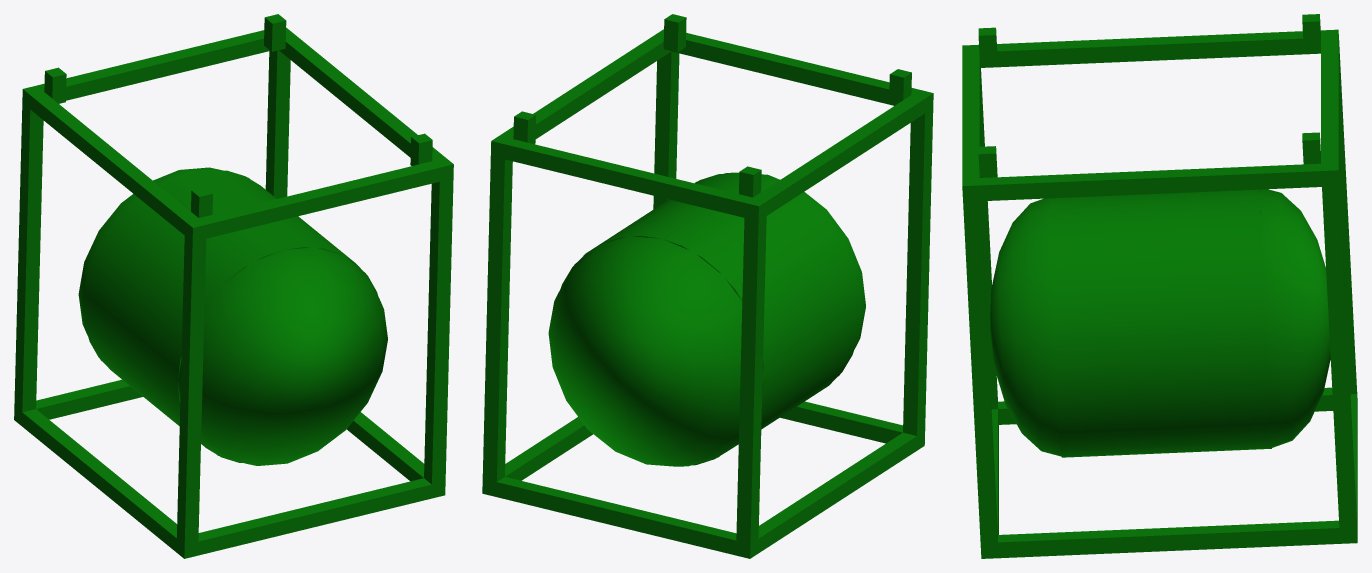
File: Image-1710907768575-2281130680352_42-VS52.fbx
3 renders of one model, left to right at view 1: azimuth 30°, elevation 25°; view 2: azimuth 150°, elevation 25°; view 3: azimuth 270°, elevation 25°, orthographic. The views are drawn at different scales.
Parts seen in each view (by area): view 1: DISH 2 of SUBEQUIPMENT /42-VS52/DRUM, CYLINDER 1 of SUBEQUIPMENT /42-VS52/DRUM, BOX 12 of SUBEQUIPMENT /42-VS52/FRAME, BOX 9 of SUBEQUIPMENT /42-VS52/FRAME, BOX 11 of SUBEQUIPMENT /42-VS52/FRAME, BOX 6 of SUBEQUIPMENT /42-VS52/FRAME, BOX 5 of SUBEQUIPMENT /42-VS52/FRAME, BOX 4 of SUBEQUIPMENT /42-VS52/FRAME, BOX 3 of SUBEQUIPMENT /42-VS52/FRAME, BOX 8 of SUBEQUIPMENT /42-VS52/FRAME, BOX 2 of SUBEQUIPMENT /42-VS52/FRAME, BOX 10 of SUBEQUIPMENT /42-VS52/FRAME (+7 smaller); view 2: DISH 1 of SUBEQUIPMENT /42-VS52/DRUM, CYLINDER 1 of SUBEQUIPMENT /42-VS52/DRUM, BOX 11 of SUBEQUIPMENT /42-VS52/FRAME, BOX 10 of SUBEQUIPMENT /42-VS52/FRAME, BOX 12 of SUBEQUIPMENT /42-VS52/FRAME, BOX 8 of SUBEQUIPMENT /42-VS52/FRAME, BOX 7 of SUBEQUIPMENT /42-VS52/FRAME, BOX 4 of SUBEQUIPMENT /42-VS52/FRAME, BOX 3 of SUBEQUIPMENT /42-VS52/FRAME, BOX 6 of SUBEQUIPMENT /42-VS52/FRAME, BOX 2 of SUBEQUIPMENT /42-VS52/FRAME, BOX 9 of SUBEQUIPMENT /42-VS52/FRAME (+7 smaller); view 3: CYLINDER 1 of SUBEQUIPMENT /42-VS52/DRUM, DISH 1 of SUBEQUIPMENT /42-VS52/DRUM, DISH 2 of SUBEQUIPMENT /42-VS52/DRUM, BOX 2 of SUBEQUIPMENT /42-VS52/FRAME, BOX 1 of SUBEQUIPMENT /42-VS52/FRAME, BOX 4 of SUBEQUIPMENT /42-VS52/FRAME, BOX 10 of SUBEQUIPMENT /42-VS52/FRAME, BOX 9 of SUBEQUIPMENT /42-VS52/FRAME, BOX 8 of SUBEQUIPMENT /42-VS52/FRAME, BOX 6 of SUBEQUIPMENT /42-VS52/FRAME, BOX 11 of SUBEQUIPMENT /42-VS52/FRAME, BOX 12 of SUBEQUIPMENT /42-VS52/FRAME (+7 smaller).
Part boxes in pixels (<box>): DISH 2 of SUBEQUIPMENT /42-VS52/DRUM: <box>178,247,387,465</box>; CYLINDER 1 of SUBEQUIPMENT /42-VS52/DRUM: <box>83,169,378,462</box>; BOX 12 of SUBEQUIPMENT /42-VS52/FRAME: <box>176,236,206,544</box>; BOX 9 of SUBEQUIPMENT /42-VS52/FRAME: <box>424,178,453,484</box>; BOX 11 of SUBEQUIPMENT /42-VS52/FRAME: <box>14,103,43,412</box>; BOX 6 of SUBEQUIPMENT /42-VS52/FRAME: <box>199,161,440,238</box>; BOX 5 of SUBEQUIPMENT /42-VS52/FRAME: <box>198,478,431,555</box>; BOX 4 of SUBEQUIPMENT /42-VS52/FRAME: <box>22,85,206,241</box>; BOX 3 of SUBEQUIPMENT /42-VS52/FRAME: <box>14,406,198,558</box>; BOX 8 of SUBEQUIPMENT /42-VS52/FRAME: <box>37,30,269,100</box>; BOX 2 of SUBEQUIPMENT /42-VS52/FRAME: <box>279,27,453,181</box>; BOX 10 of SUBEQUIPMENT /42-VS52/FRAME: <box>265,50,290,198</box>; DISH 1 of SUBEQUIPMENT /42-VS52/DRUM: <box>548,236,764,466</box>; CYLINDER 1 of SUBEQUIPMENT /42-VS52/DRUM: <box>560,172,861,465</box>; BOX 11 of SUBEQUIPMENT /42-VS52/FRAME: <box>736,216,766,543</box>; BOX 10 of SUBEQUIPMENT /42-VS52/FRAME: <box>482,156,512,481</box>; BOX 12 of SUBEQUIPMENT /42-VS52/FRAME: <box>903,108,933,435</box>; BOX 8 of SUBEQUIPMENT /42-VS52/FRAME: <box>505,139,752,217</box>; BOX 7 of SUBEQUIPMENT /42-VS52/FRAME: <box>496,477,736,555</box>; BOX 4 of SUBEQUIPMENT /42-VS52/FRAME: <box>744,89,933,221</box>; BOX 3 of SUBEQUIPMENT /42-VS52/FRAME: <box>736,431,924,558</box>; BOX 6 of SUBEQUIPMENT /42-VS52/FRAME: <box>672,33,918,105</box>; BOX 2 of SUBEQUIPMENT /42-VS52/FRAME: <box>491,29,671,159</box>; BOX 9 of SUBEQUIPMENT /42-VS52/FRAME: <box>653,51,679,209</box>; CYLINDER 1 of SUBEQUIPMENT /42-VS52/DRUM: <box>1050,189,1271,457</box>; DISH 1 of SUBEQUIPMENT /42-VS52/DRUM: <box>1260,189,1330,447</box>; DISH 2 of SUBEQUIPMENT /42-VS52/DRUM: <box>990,198,1061,456</box>; BOX 2 of SUBEQUIPMENT /42-VS52/FRAME: <box>962,163,1339,201</box>; BOX 1 of SUBEQUIPMENT /42-VS52/FRAME: <box>980,520,1357,558</box>; BOX 4 of SUBEQUIPMENT /42-VS52/FRAME: <box>962,29,1339,67</box>; BOX 10 of SUBEQUIPMENT /42-VS52/FRAME: <box>1322,180,1356,527</box>; BOX 9 of SUBEQUIPMENT /42-VS52/FRAME: <box>963,201,997,542</box>; BOX 8 of SUBEQUIPMENT /42-VS52/FRAME: <box>1321,37,1339,173</box>; BOX 6 of SUBEQUIPMENT /42-VS52/FRAME: <box>962,52,980,178</box>; BOX 11 of SUBEQUIPMENT /42-VS52/FRAME: <box>1339,47,1356,394</box>; BOX 12 of SUBEQUIPMENT /42-VS52/FRAME: <box>980,68,997,409</box>.
Bounding box in the file's own units: 1.9 × 2.26 × 2.59.
